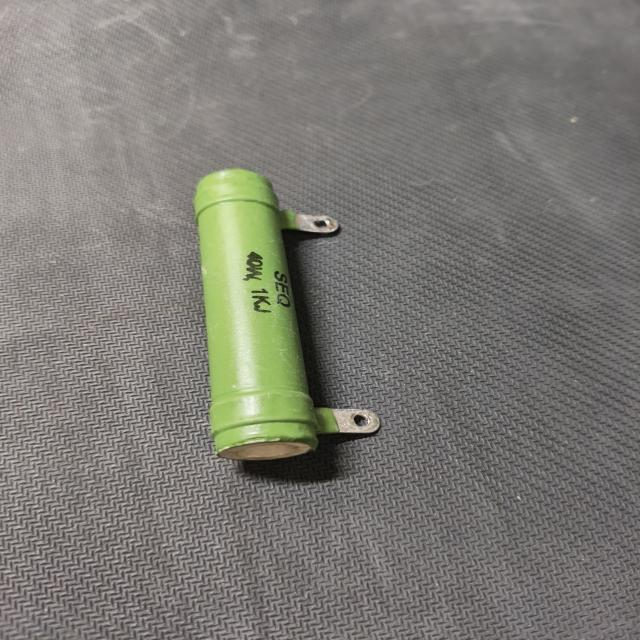resistor: (179, 166, 394, 477)
